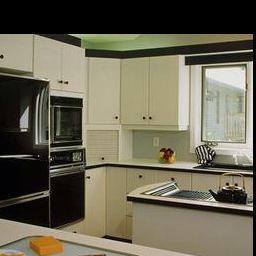Electrodomestico: (0, 80, 47, 215), (137, 172, 248, 200), (48, 146, 83, 226), (47, 98, 82, 144)
